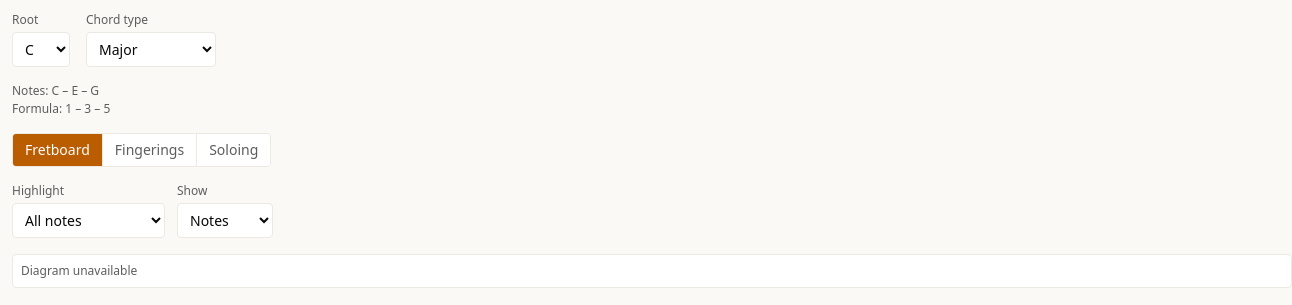
InversionPanel › changes chord type and updates formula
This screenshot has width=1292, height=305.
Select "Minor" in the dropdown labelled "Chord type". click: (151, 50)
box: [86,32,216,67]
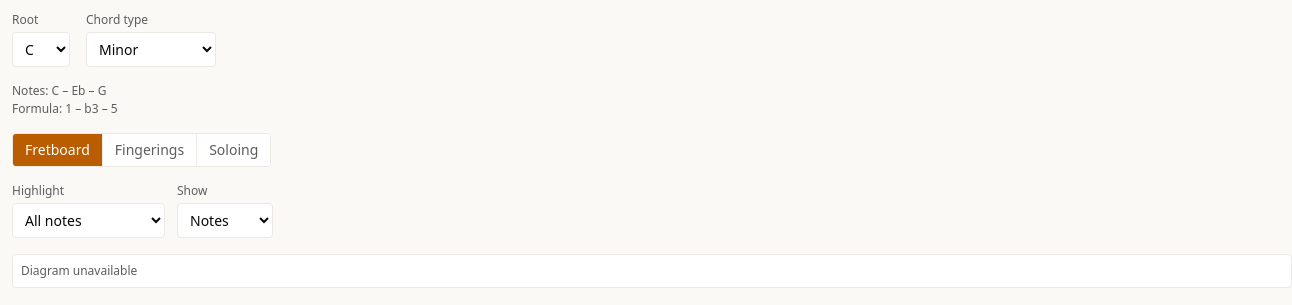
Expected: the text "Formula: 1 – b3 – 5" is shown, [12,100,118,117]
